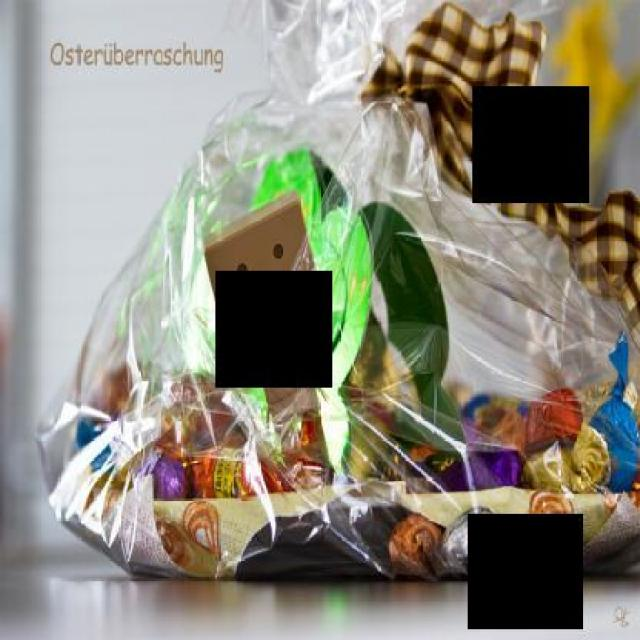plastic bag: (33, 0, 638, 578)
